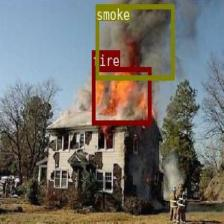fire: (91, 67, 151, 124)
smoke: (95, 4, 174, 79)
